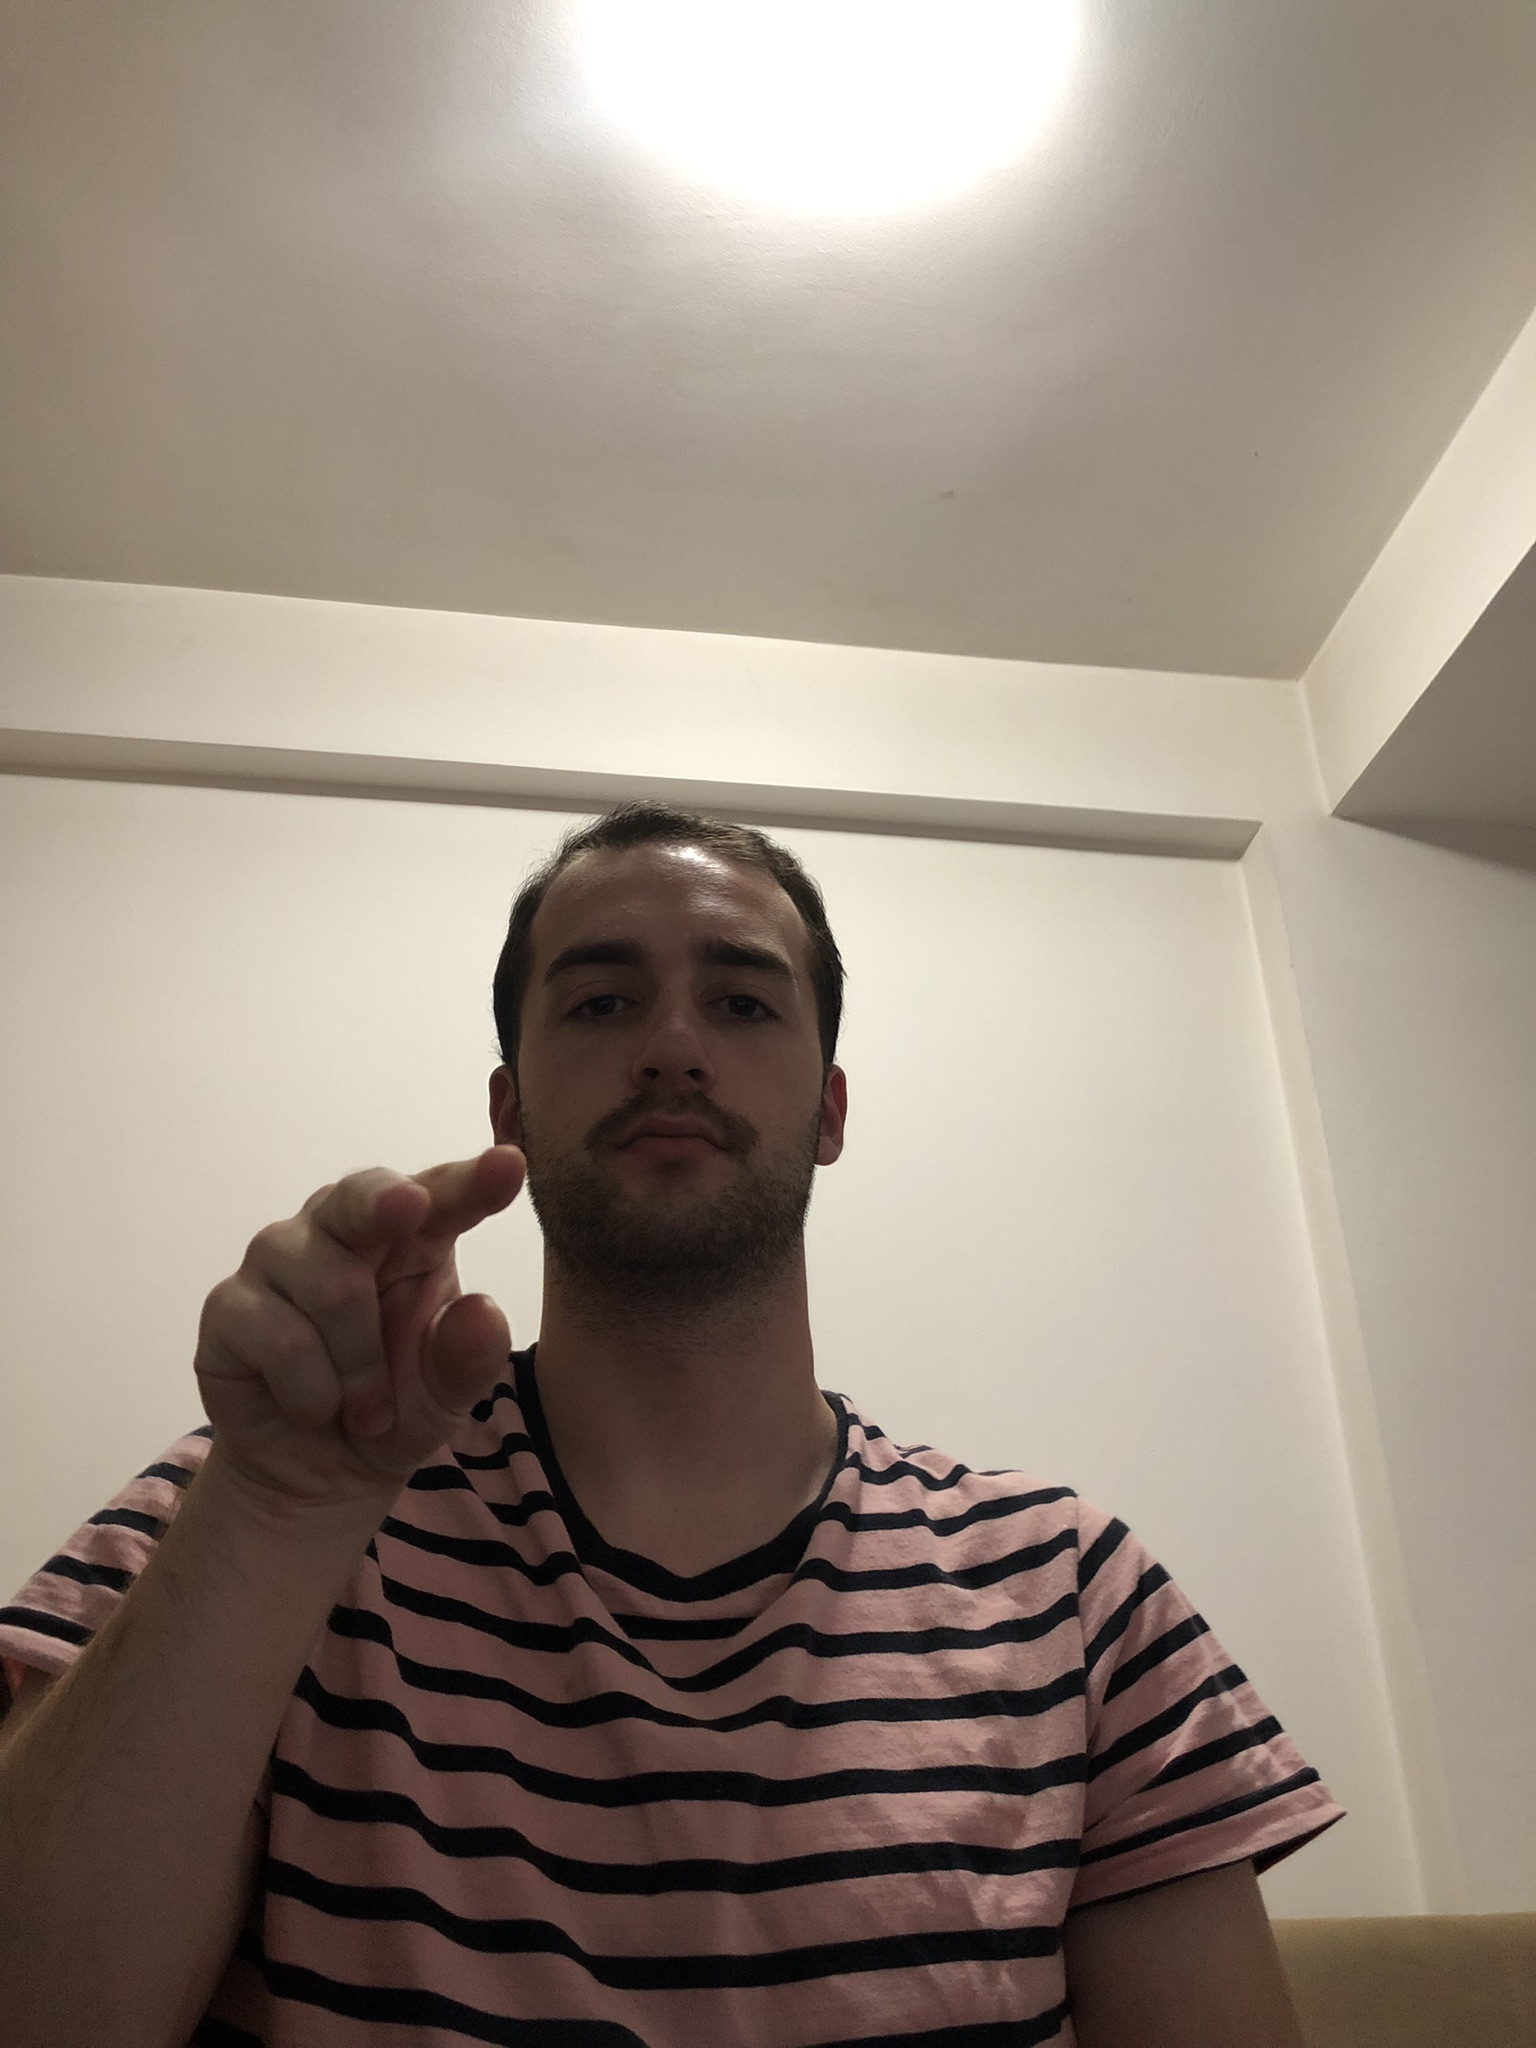No: (179, 1135, 529, 1522)
